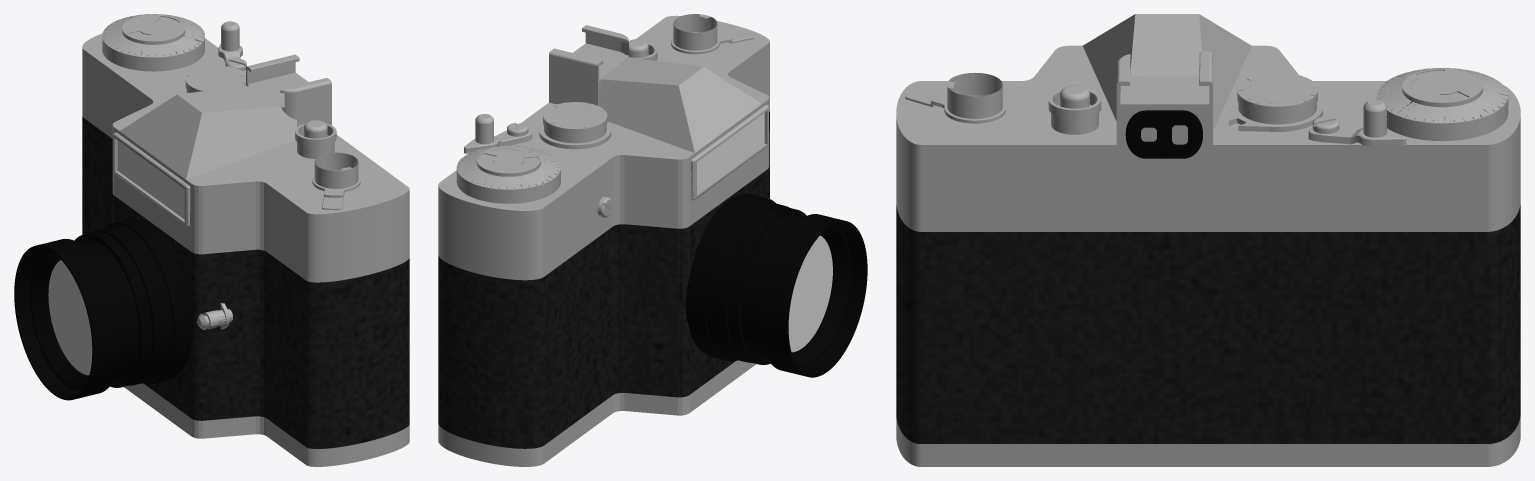
Rendered from analogue.glb.
3 renders of one model, left to right at view 1: azimuth 30°, elevation 25°; view 2: azimuth 150°, elevation 25°; view 3: azimuth 270°, elevation 25°, orthographic. The views are drawn at different scales.
Visible parts, largest first — view 1: Cylinder.154; view 2: Cylinder.154; view 3: Cylinder.154.
Boxes of the visible parts, <box> form: Cylinder.154: <box>14,14,409,466</box>; Cylinder.154: <box>438,14,867,466</box>; Cylinder.154: <box>896,14,1520,466</box>.
Size of the model in its own units: 1.17 by 1.27 by 1.86.
4 materials, 1 textured.
